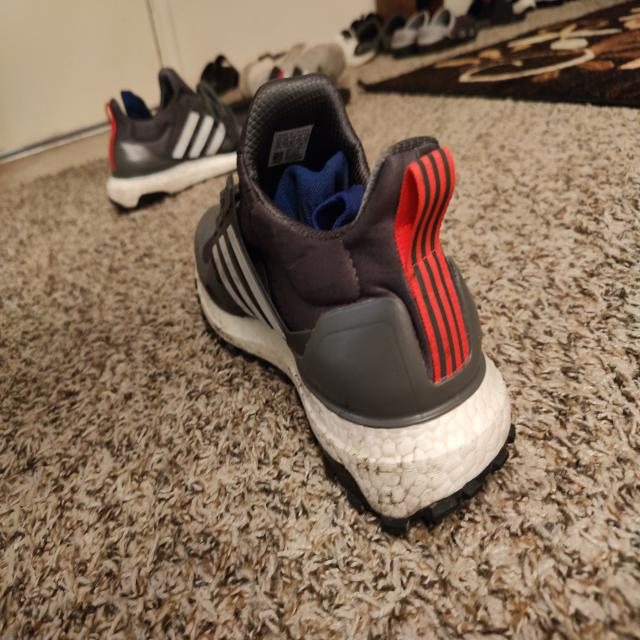black shoes: (194, 85, 511, 532)
